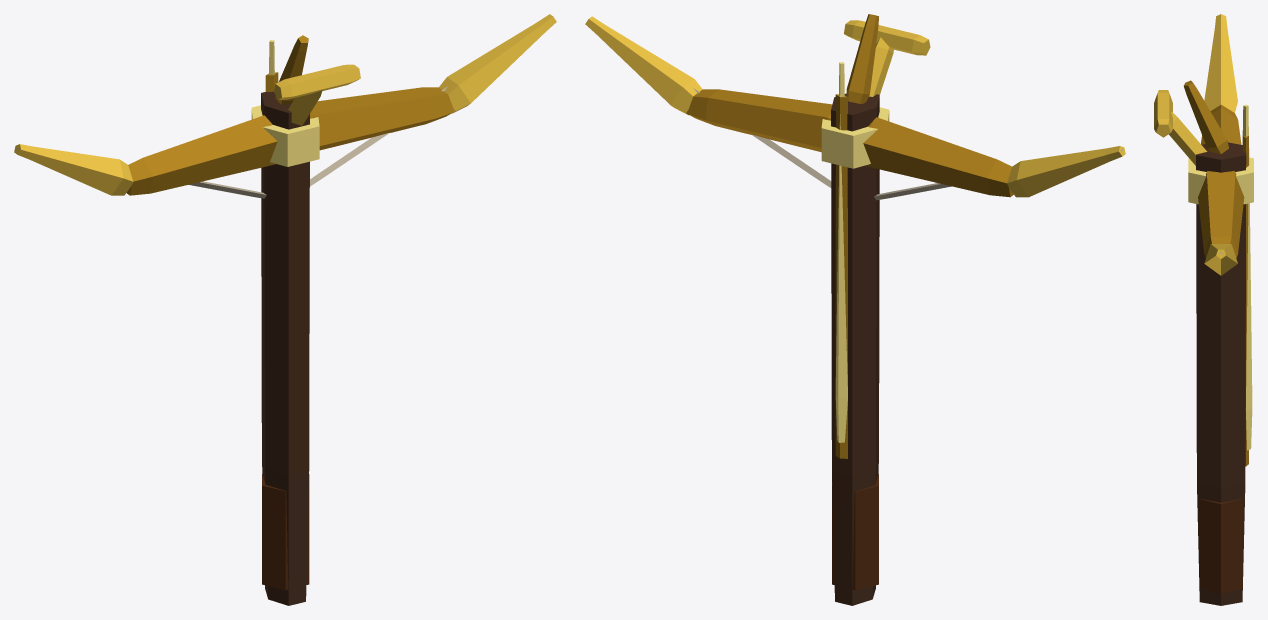
The model's file is wpn_crossbow_6.glb.
The picture shows the model from 3 angles, left to right: view 1: azimuth 30°, elevation 25°; view 2: azimuth 150°, elevation 25°; view 3: azimuth 270°, elevation 25°; orthographic projection. The views are drawn at different scales.
Parts seen in each view (by area): view 1: wpn_crossbow_6; view 2: wpn_crossbow_6; view 3: wpn_crossbow_6.
Boxes of the visible parts, bbox=[...] form: wpn_crossbow_6: bbox=[14, 14, 556, 605]; wpn_crossbow_6: bbox=[585, 14, 1125, 605]; wpn_crossbow_6: bbox=[1154, 14, 1253, 605].
Size of the model in its own units: 0.6853 by 0.6925 by 0.1212.
